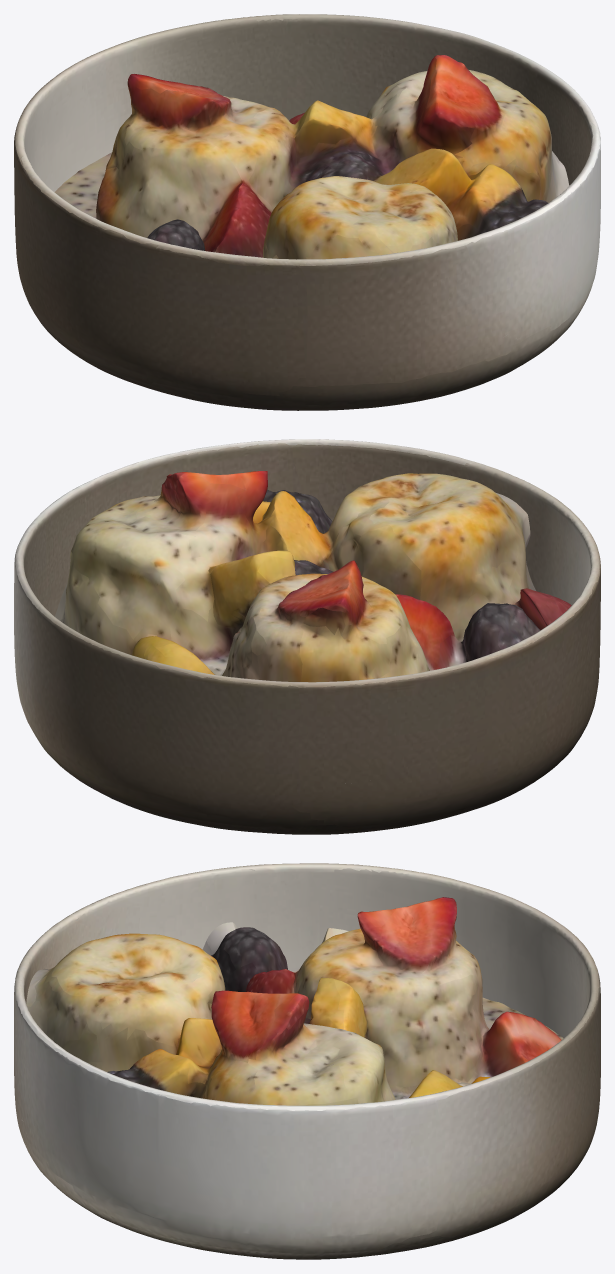
Rendered from set.withpoppy.seeds001.glb.
The picture shows the model from 3 angles, top to bottom: view 1: azimuth 30°, elevation 25°; view 2: azimuth 150°, elevation 25°; view 3: azimuth 270°, elevation 25°; orthographic projection.
Parts seen in each view (by area): view 1: /Root/Scenes/Scene/Object_37/Object_41/Object_42/Submesh_0, /Root/Scenes/Scene/Object_37/Object_38/Submesh_0; view 2: /Root/Scenes/Scene/Object_37/Object_41/Object_42/Submesh_0, /Root/Scenes/Scene/Object_37/Object_38/Submesh_0; view 3: /Root/Scenes/Scene/Object_37/Object_41/Object_42/Submesh_0, /Root/Scenes/Scene/Object_37/Object_38/Submesh_0.
Part boxes in pixels (box(x1,y1,x2,y2)): /Root/Scenes/Scene/Object_37/Object_41/Object_42/Submesh_0: box(14, 14, 600, 410); /Root/Scenes/Scene/Object_37/Object_38/Submesh_0: box(54, 55, 569, 335); /Root/Scenes/Scene/Object_37/Object_41/Object_42/Submesh_0: box(14, 439, 600, 834); /Root/Scenes/Scene/Object_37/Object_38/Submesh_0: box(55, 471, 571, 783); /Root/Scenes/Scene/Object_37/Object_41/Object_42/Submesh_0: box(14, 863, 600, 1259); /Root/Scenes/Scene/Object_37/Object_38/Submesh_0: box(22, 897, 563, 1120).
Bounding box in the file's own units: 0.1828 × 0.0771 × 0.1827.
2 materials, 2 textured.
